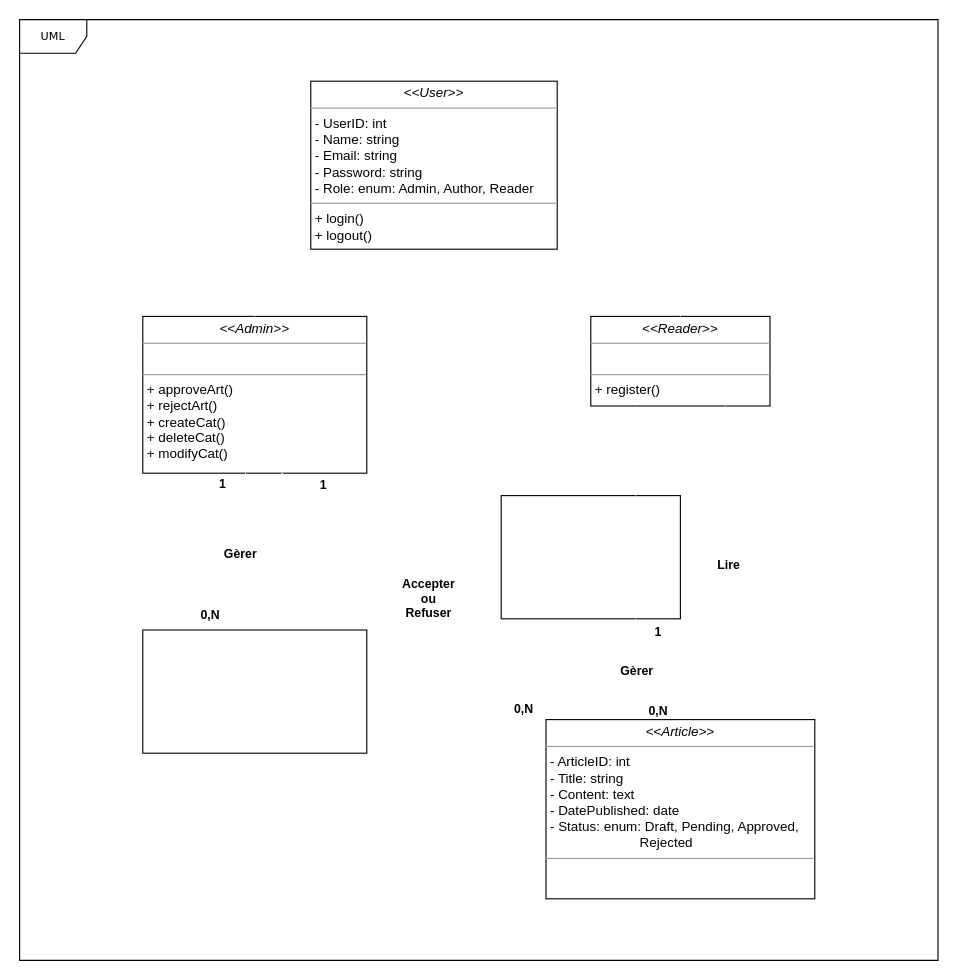
Some shapes in this 958 by 980 pixel diagram are drawn without their labels. The centre of each missing label's shape, as x and y in pixels:
"<< Category >> - CategoryID: int - Name: string" goes at [254,691].
"<<Author>> + createArt() + modifyArt() + deleteArt()" goes at [590,556].
